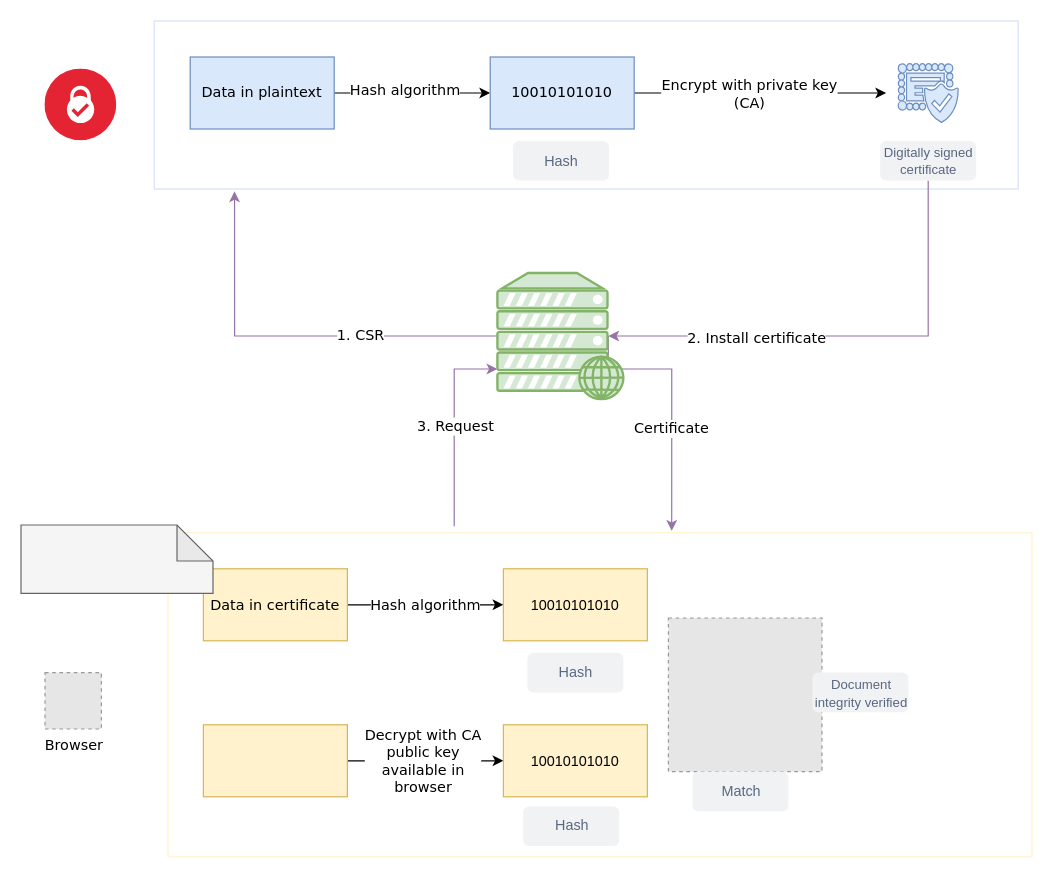
The diagram is 1054 pixels wide and 878 high, and some of its shapes have lost their labels. Grey dashed boxes stand in for pictures. Each missing label, with the centre of its shape:
CA: the point at 80,104
Digital signature in certificate: the point at 274,760
Hash algorithm is present in certificate: the point at 116,558
Web Server: the point at 560,335
